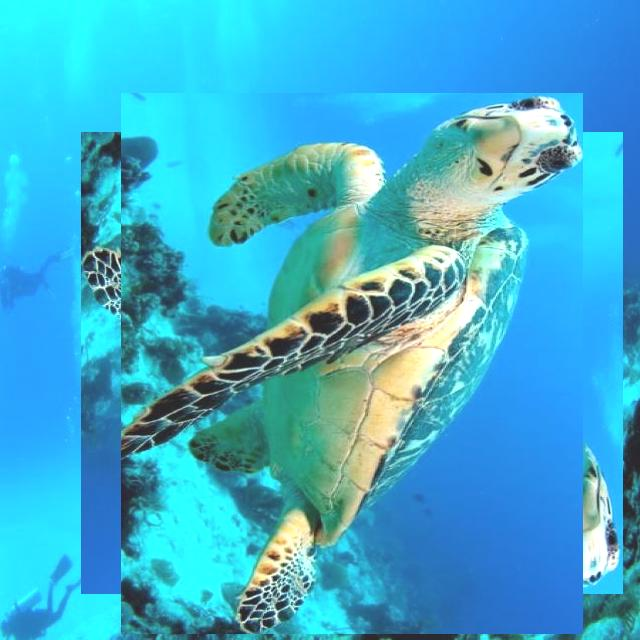Sea turtle: (101, 112, 603, 614)
